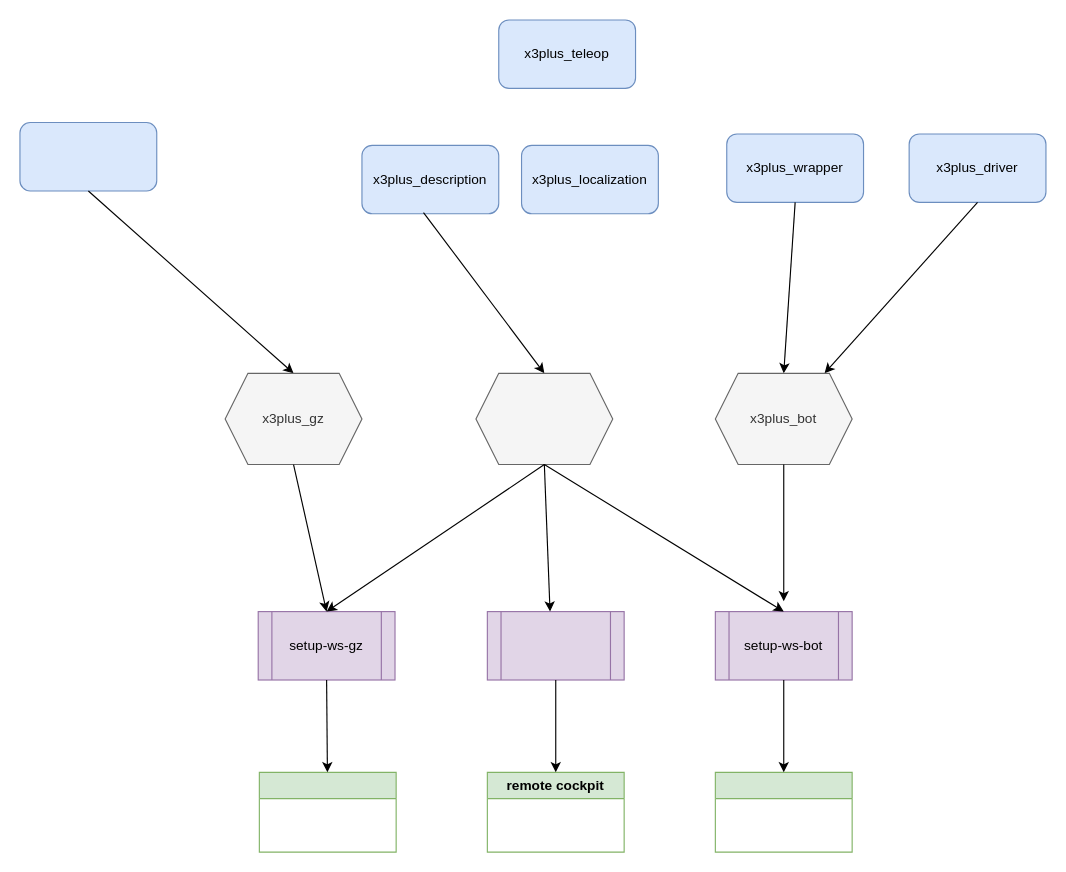
Some shapes in this 1066 by 872 pixel diagram are drawn without their labels. The shapes that lost their labels are listed below. From the top down, each one's centre as x and y in pixels, then its label:
pixel 88 156: x3plus_gazebo
pixel 544 418: x3plus
pixel 555 645: setup-ws-pit
pixel 327 811: development box
pixel 783 811: robot controller
